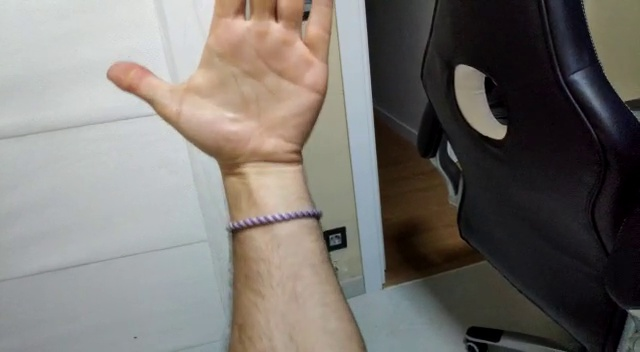Palm: (100, 1, 334, 171)
